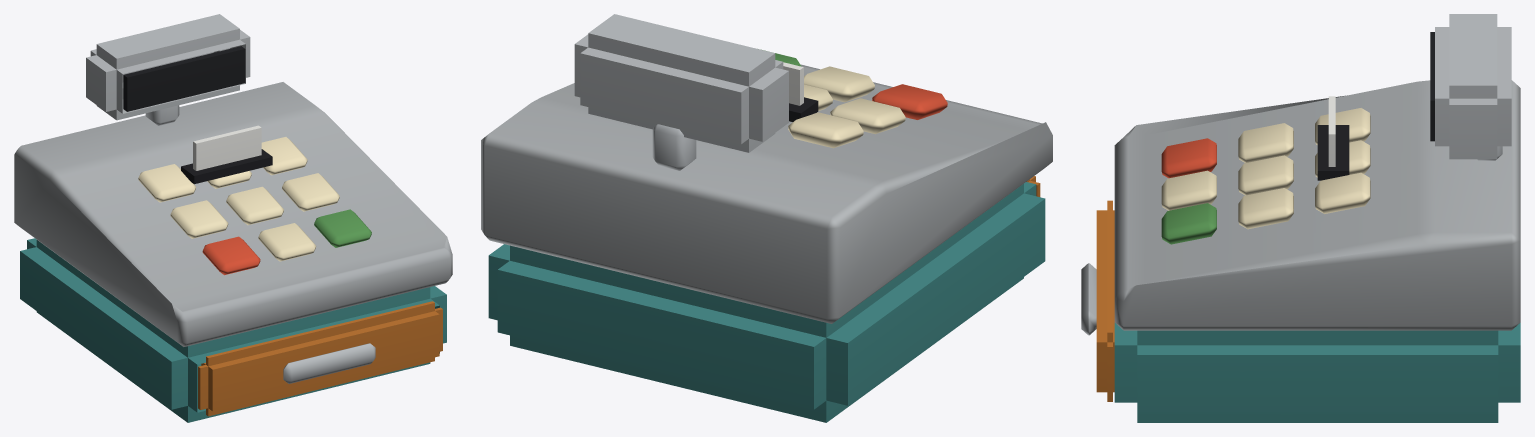
The model's file is Register_Classic_01.glb.
The picture shows the model from 3 angles, left to right: view 1: azimuth 30°, elevation 25°; view 2: azimuth 150°, elevation 25°; view 3: azimuth 270°, elevation 25°; orthographic projection. The views are drawn at different scales.
Visible parts, largest first — view 1: SM_Register_Classic_01; view 2: SM_Register_Classic_01; view 3: SM_Register_Classic_01.
Part boxes in pixels (bbox=[...]): SM_Register_Classic_01: bbox=[14, 14, 452, 422]; SM_Register_Classic_01: bbox=[481, 14, 1052, 422]; SM_Register_Classic_01: bbox=[1081, 14, 1520, 422].
Size of the model in its own units: 0.42 by 0.37 by 0.487.
1 material, 1 textured.
